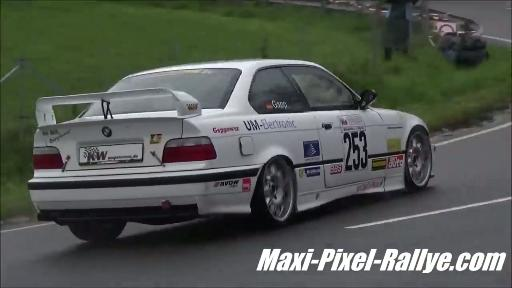CAR: (31, 59, 440, 241)
